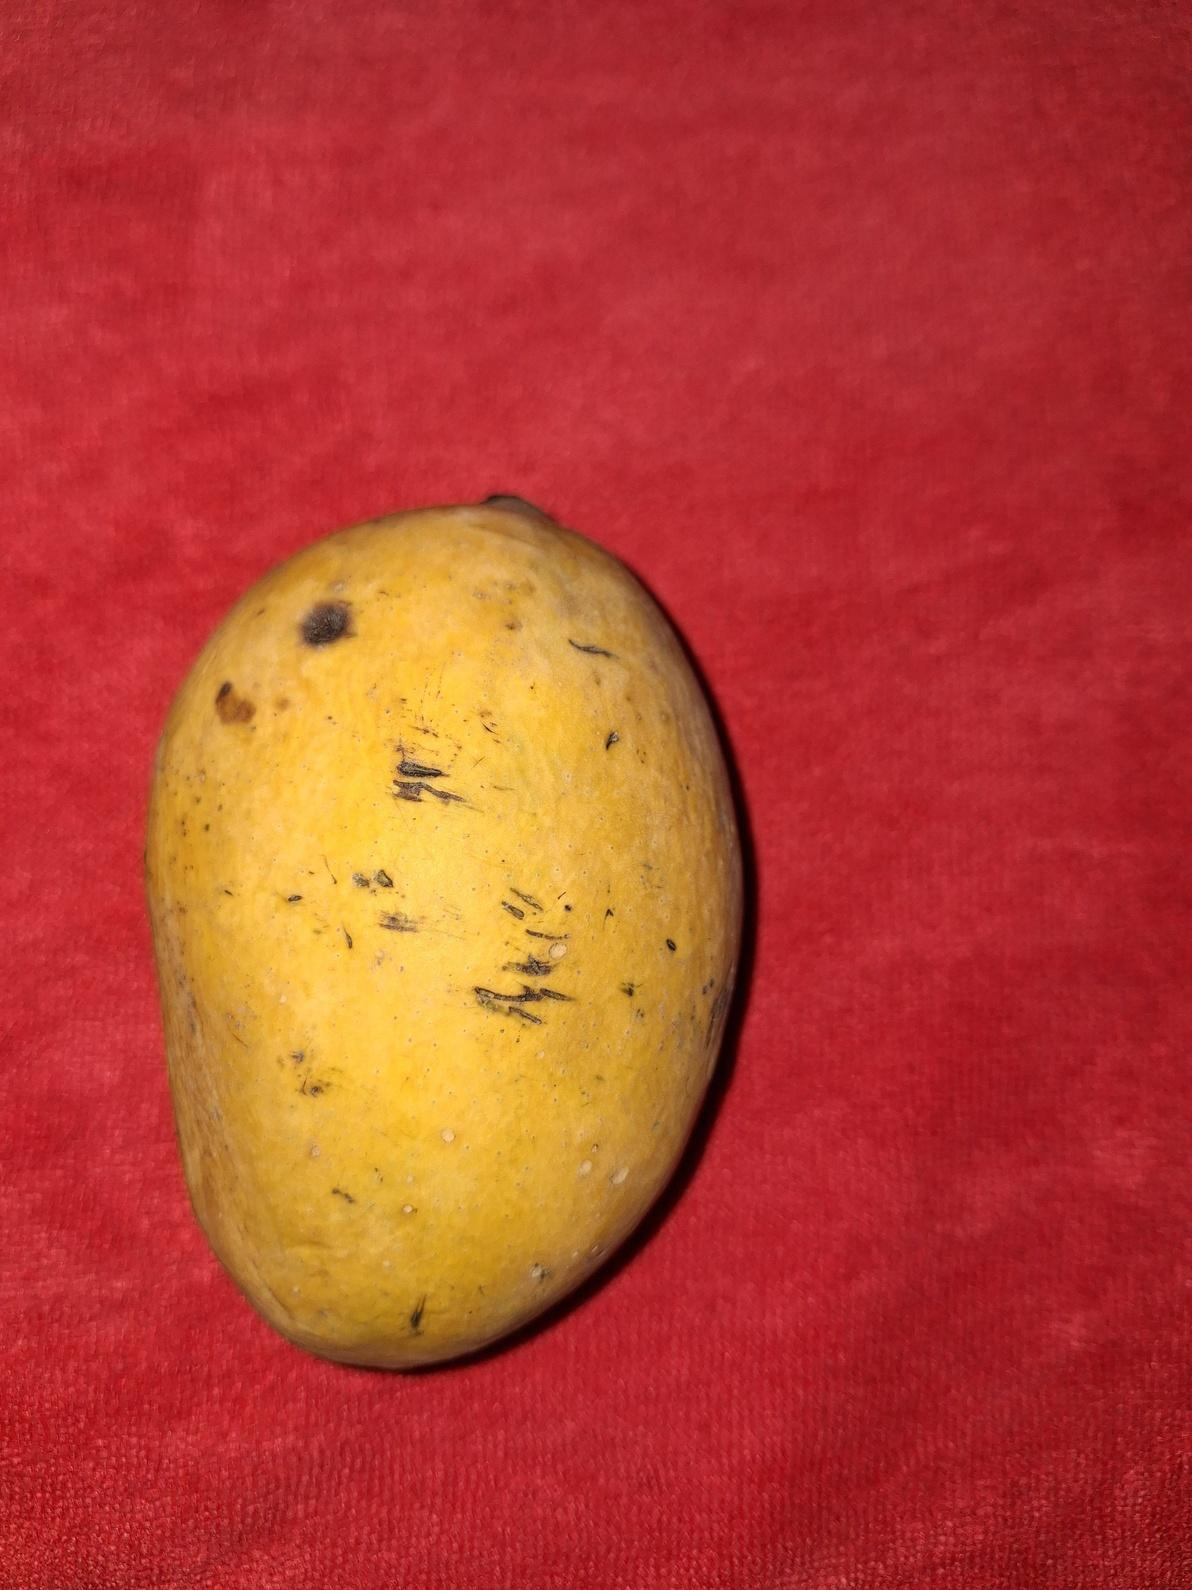mango: (141, 491, 745, 1371)
